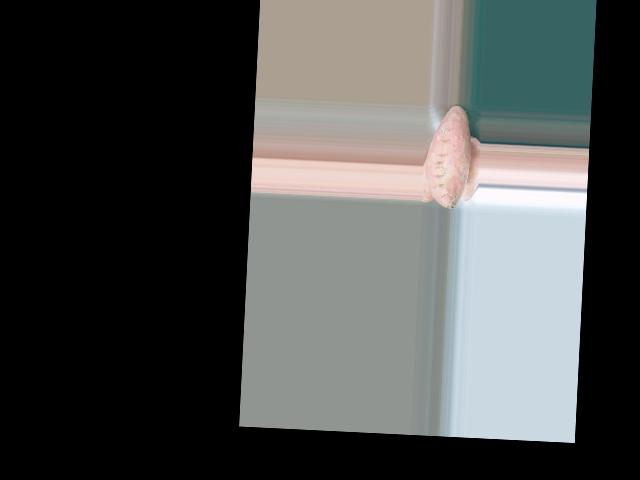sweet_potato: (427, 105, 468, 209)
